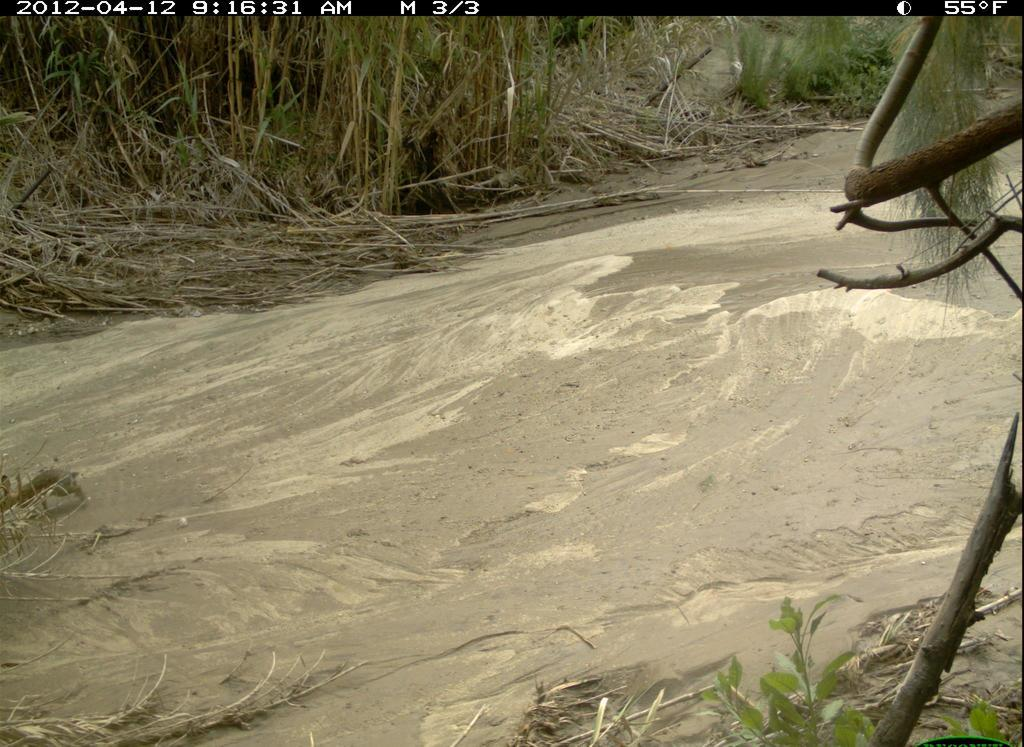rabbit: (1, 463, 92, 522)
